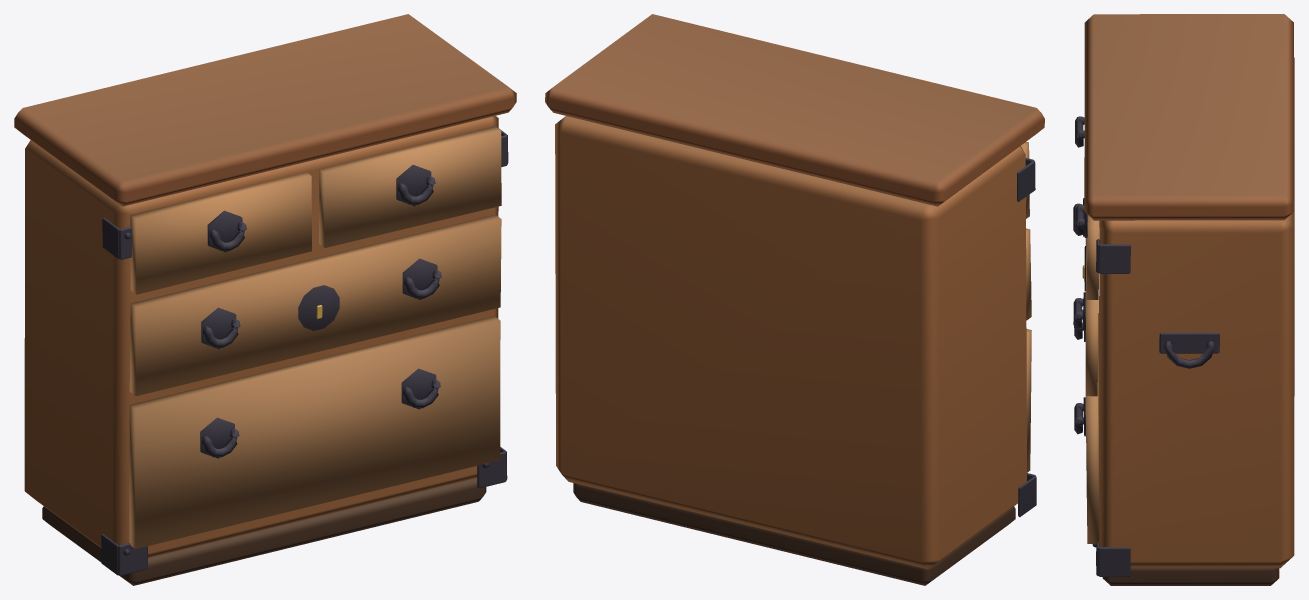
Rendered from furn-tansu.glb.
3 renders of one model, left to right at view 1: azimuth 30°, elevation 25°; view 2: azimuth 150°, elevation 25°; view 3: azimuth 270°, elevation 25°, orthographic. The views are drawn at different scales.
Parts seen in each view (by area): view 1: body; view 2: body; view 3: body.
Boxes of the visible parts, x1,y1,x2,y2 form: body: (14,14,516,585); body: (545,14,1044,585); body: (1073,14,1294,585).
Bounding box in the file's own units: 0.9652 × 0.95 × 0.4765.
